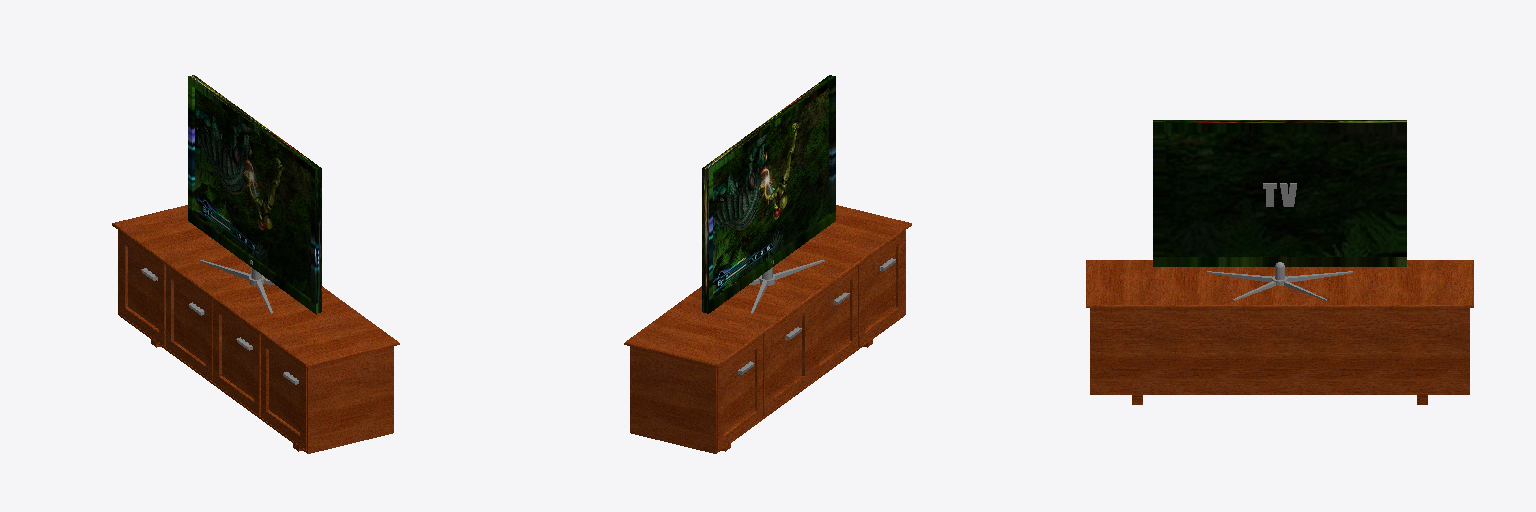
3 renders of one model, left to right at view 1: azimuth 30°, elevation 25°; view 2: azimuth 150°, elevation 25°; view 3: azimuth 270°, elevation 25°, orthographic.
Parts seen in each view (by area): view 1: Furniture1, pCube1; view 2: Furniture1, pCube1; view 3: Furniture1, pCube1, Trim_Char_V_1_2.
Boxes of the visible parts, <box> form: Furniture1: <box>112,205,399,453</box>; pCube1: <box>188,75,321,313</box>; Furniture1: <box>624,205,911,453</box>; pCube1: <box>702,75,835,313</box>; Furniture1: <box>1086,260,1473,404</box>; pCube1: <box>1153,120,1406,266</box>; Trim_Char_V_1_2: <box>1263,183,1296,206</box>.
Bounding box in the file's own units: 29.19 × 79.71 × 105.
4 materials, 2 textured.